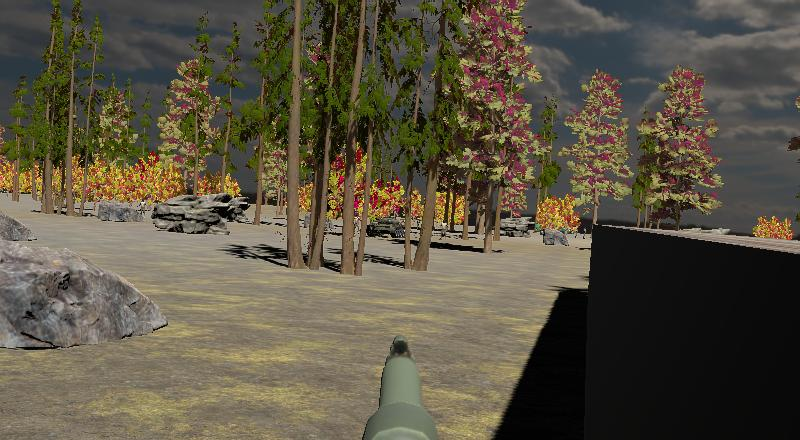Tank: (365, 214, 407, 239)
